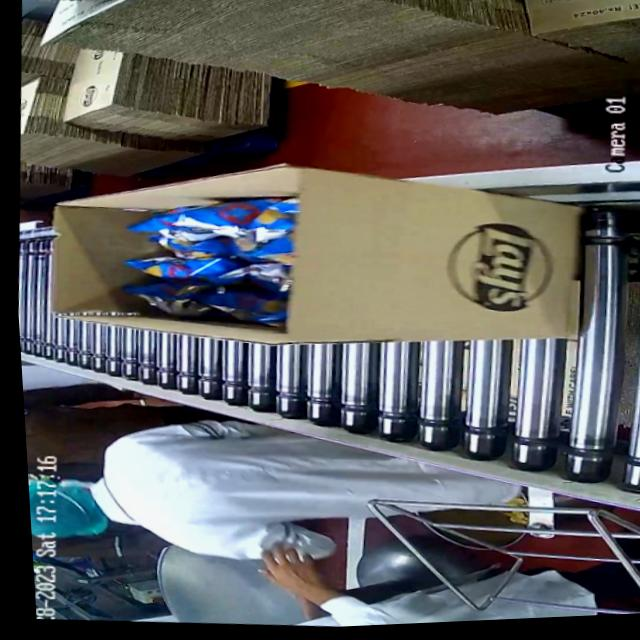PAPRIKA: (120, 183, 302, 328)
